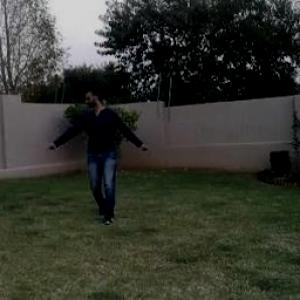land: (33, 67, 152, 231)
